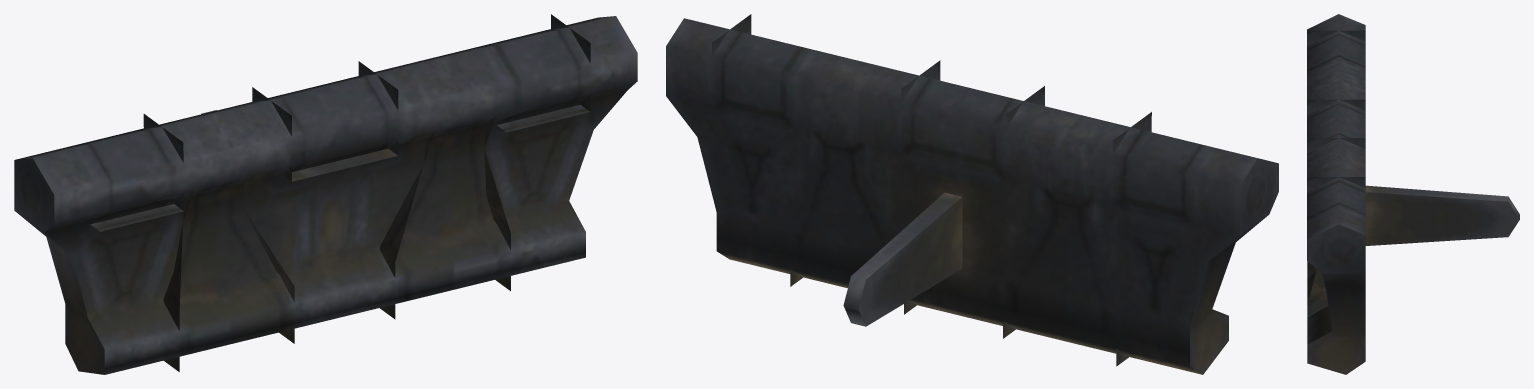
The picture shows the model from 3 angles, left to right: view 1: azimuth 30°, elevation 25°; view 2: azimuth 150°, elevation 25°; view 3: azimuth 270°, elevation 25°; orthographic projection. The views are drawn at different scales.
Parts seen in each view (by area): view 1: set_0_group_0; view 2: set_0_group_0; view 3: set_0_group_0.
Boxes of the visible parts, <box> form: set_0_group_0: <box>14,14,637,374</box>; set_0_group_0: <box>666,14,1278,374</box>; set_0_group_0: <box>1307,14,1519,374</box>.
Bounding box in the file's own units: 0.2843 × 0.1067 × 0.1216.
1 material, 1 textured.
